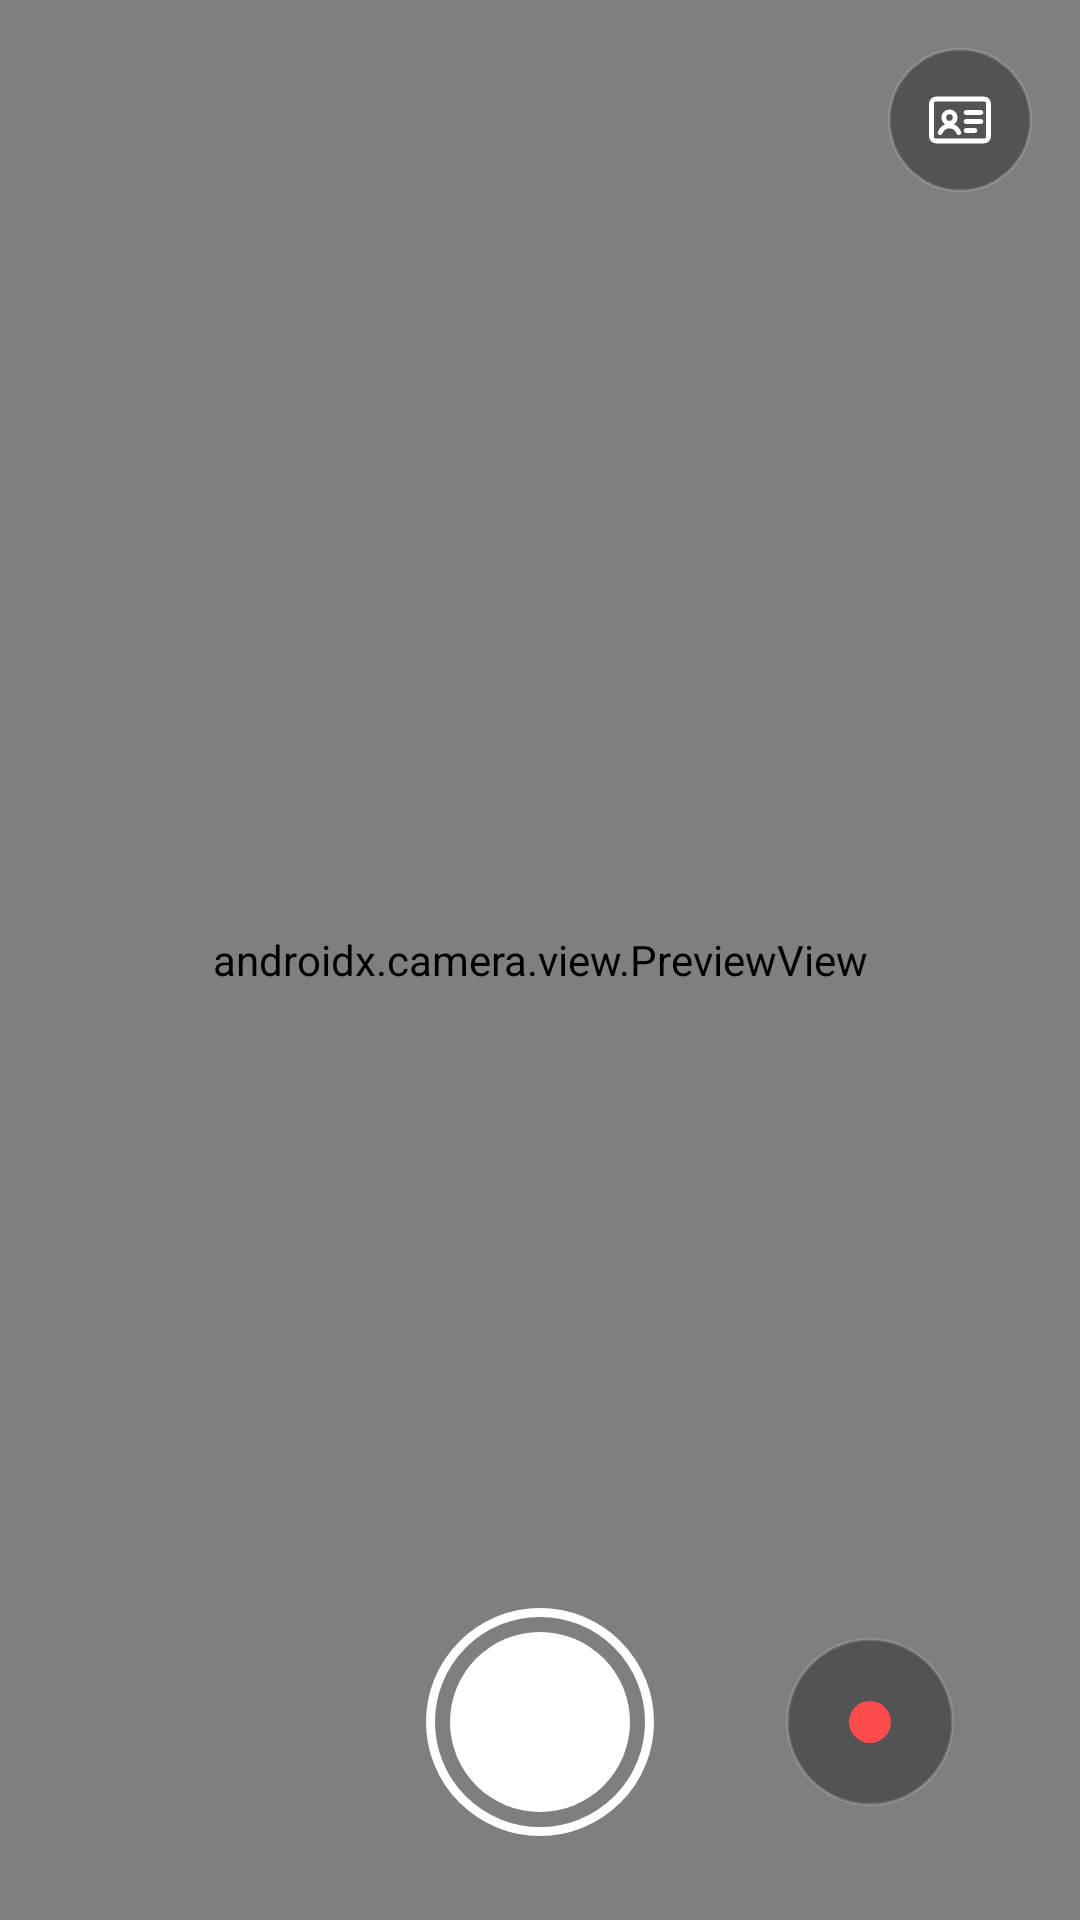

Locate icon controls on the screen. Image size 1080×1920, boxes as (x1, y1, x2, y2).
Device identity: (891, 51, 1029, 189)
Record: (789, 1641, 951, 1803)
shutter photo: (426, 1608, 654, 1836)
